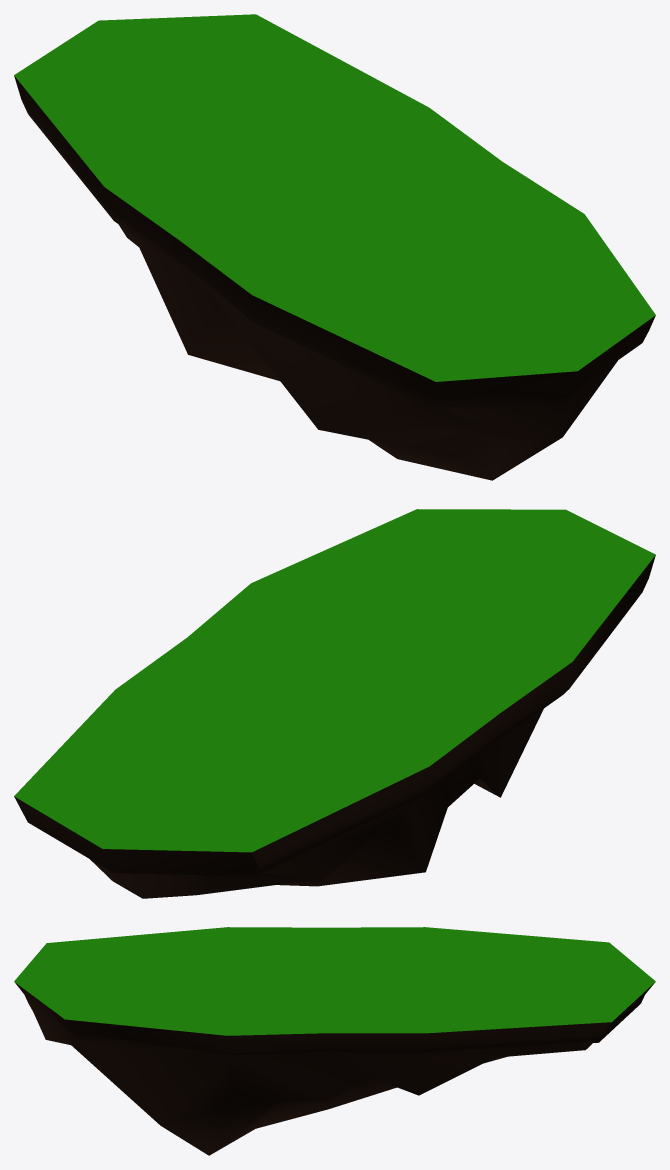
File: SM_Tutorial_FloatingPlatform_Oval_Fixed.FBX
3 renders of one model, top to bottom at view 1: azimuth 30°, elevation 25°; view 2: azimuth 150°, elevation 25°; view 3: azimuth 270°, elevation 25°, orthographic. The views are drawn at different scales.
Parts seen in each view (by area): view 1: Platform_Elipse_2; view 2: Platform_Elipse_2; view 3: Platform_Elipse_2.
Part boxes in pixels (x1,y1,x2,y2): Platform_Elipse_2: (14, 14, 655, 480); Platform_Elipse_2: (14, 509, 655, 898); Platform_Elipse_2: (14, 927, 655, 1155).
Bounding box in the file's own units: 0.0293 × 0.0194 × 0.0731.
